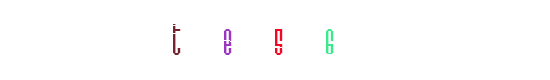5: (235, 0, 315, 80)
6: (289, 0, 369, 80)
E: (192, 0, 272, 80)
T: (184, 0, 264, 80)
